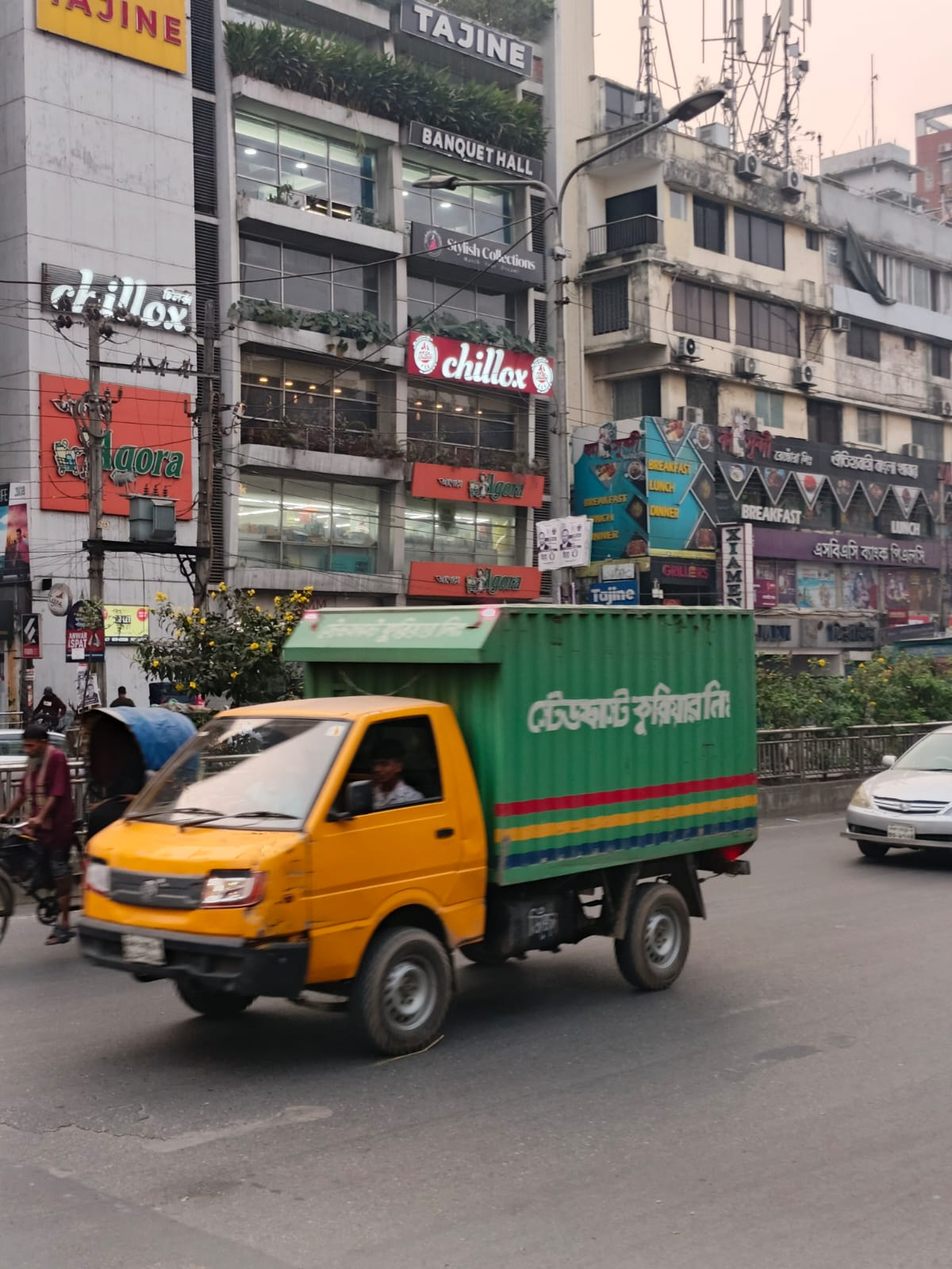Pickup: (61, 566, 783, 1020)
auto-ricksaw: (13, 667, 199, 881)
private car: (817, 698, 952, 910)
